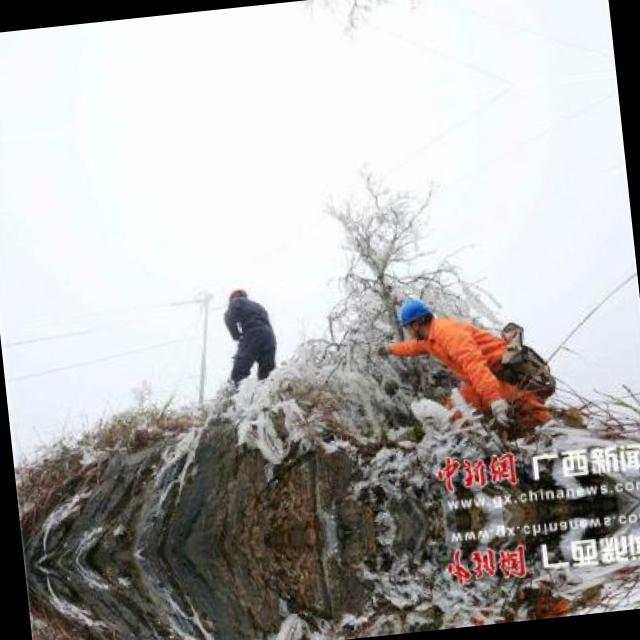helmet: (391, 292, 437, 340), (225, 282, 249, 307)
